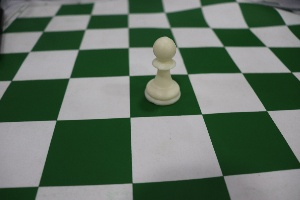white_pawn: (135, 22, 192, 114)
